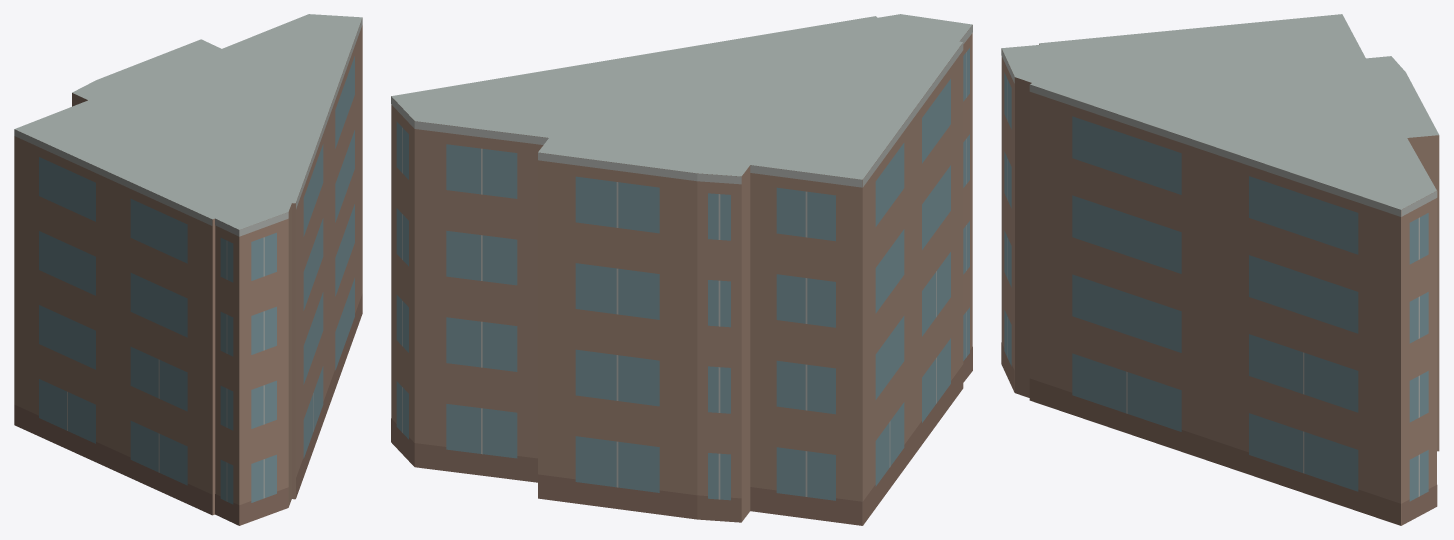
Rendered from survey-upis-32497711.glb.
The picture shows the model from 3 angles, left to right: view 1: azimuth 30°, elevation 25°; view 2: azimuth 150°, elevation 25°; view 3: azimuth 270°, elevation 25°; orthographic projection. The views are drawn at different scales.
Visible parts, largest first — view 1: survey-upis-32497711.tmp; view 2: survey-upis-32497711.tmp; view 3: survey-upis-32497711.tmp.
Part boxes in pixels (x1=…): survey-upis-32497711.tmp: x1=14, y1=14, x2=362, y2=525; survey-upis-32497711.tmp: x1=391, y1=14, x2=972, y2=525; survey-upis-32497711.tmp: x1=1001, y1=14, x2=1439, y2=525.
Size of the model in its own units: 14.19 by 10.67 by 13.41.
